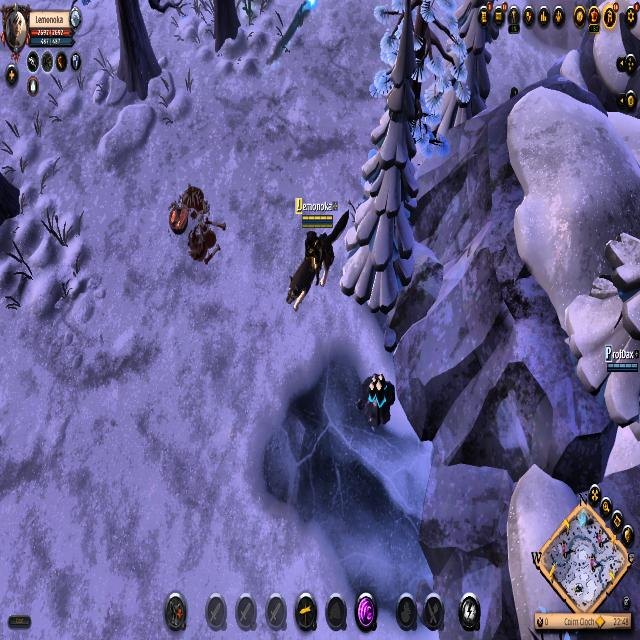ore tier 4: (360, 371, 398, 437)
